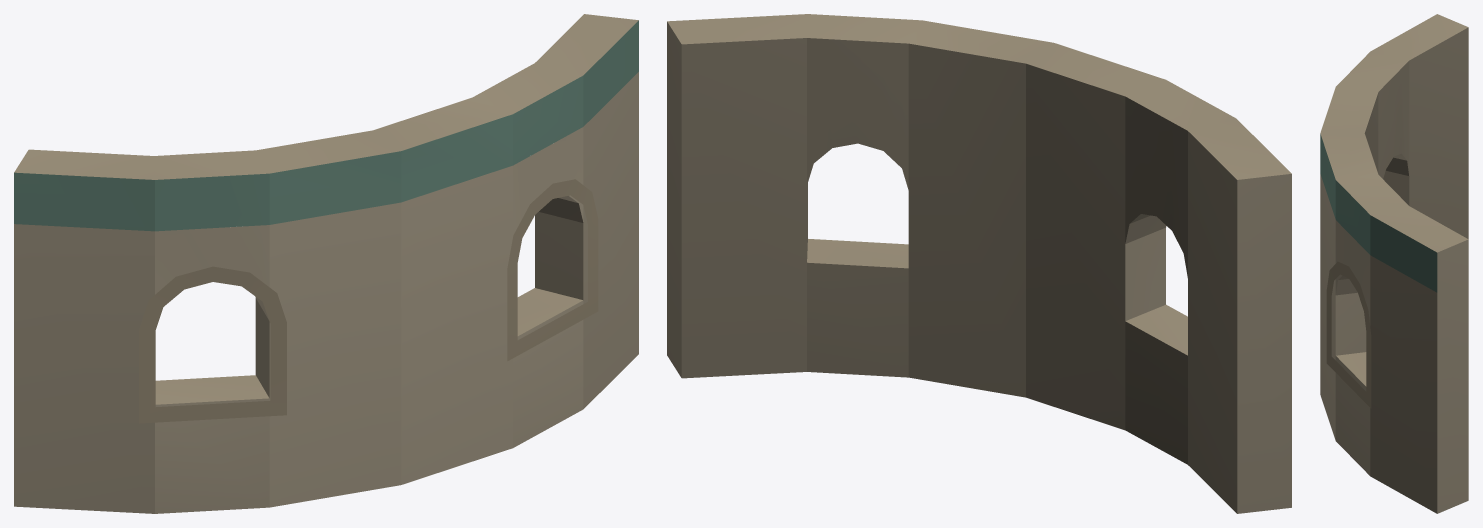
Rendered from dome.drum_window.copper.glb.
3 renders of one model, left to right at view 1: azimuth 30°, elevation 25°; view 2: azimuth 150°, elevation 25°; view 3: azimuth 270°, elevation 25°, orthographic. The views are drawn at different scales.
Visible parts, largest first — view 1: dome_drum_window_copper; view 2: dome_drum_window_copper; view 3: dome_drum_window_copper.
Boxes of the visible parts, bbox=[...] form: dome_drum_window_copper: bbox=[14, 14, 638, 513]; dome_drum_window_copper: bbox=[667, 14, 1291, 513]; dome_drum_window_copper: bbox=[1320, 14, 1468, 513].
Size of what is drawn, in the model's own units: 5.09 by 2.6 by 1.34.
